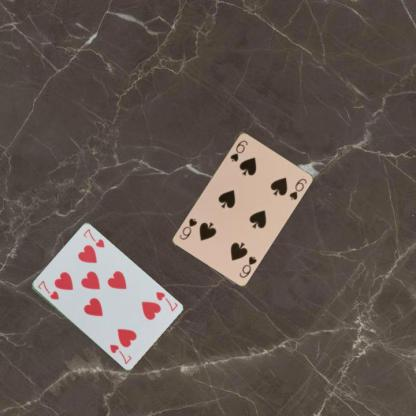6s: (228, 137, 249, 163), (237, 253, 258, 279)
7h: (153, 289, 179, 312), (35, 278, 60, 301)
